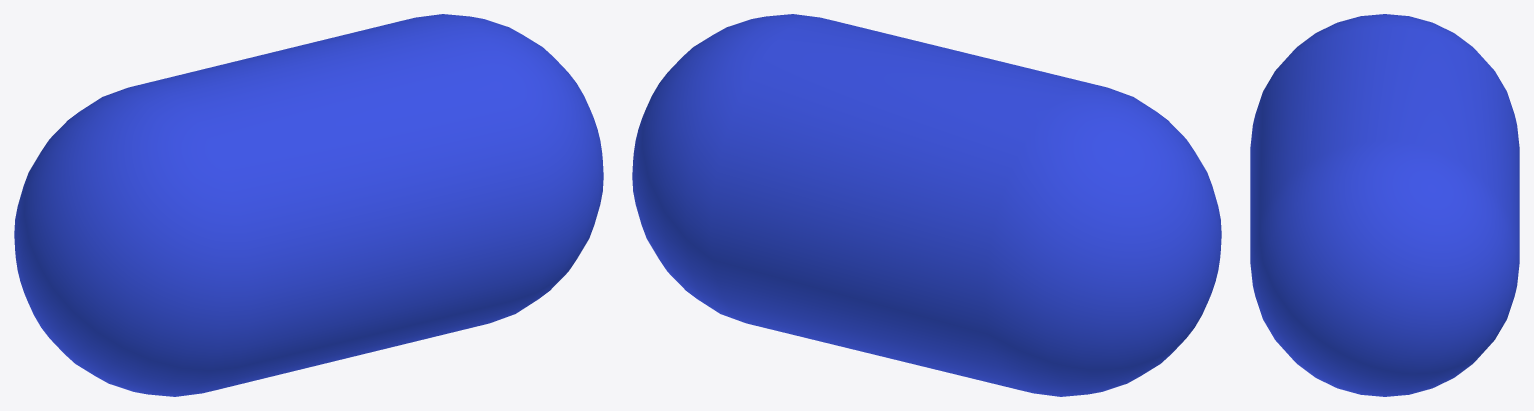
File: block_blue.glb
3 renders of one model, left to right at view 1: azimuth 30°, elevation 25°; view 2: azimuth 150°, elevation 25°; view 3: azimuth 270°, elevation 25°, orthographic. The views are drawn at different scales.
Visible parts, largest first — view 1: Sphere; view 2: Sphere; view 3: Sphere.
Boxes of the visible parts, x1,y1,x2,y2 form: Sphere: (14, 14, 603, 396); Sphere: (632, 14, 1221, 396); Sphere: (1250, 14, 1519, 396).
Bounding box in the file's own units: 2 × 1 × 1.
